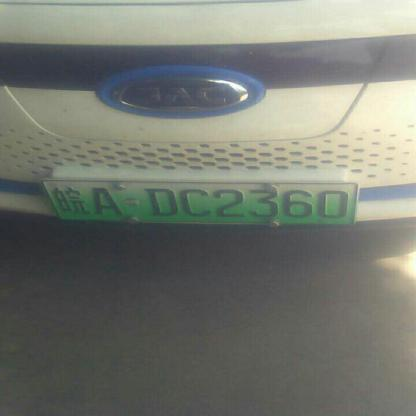lp: (42, 181, 61, 224)
